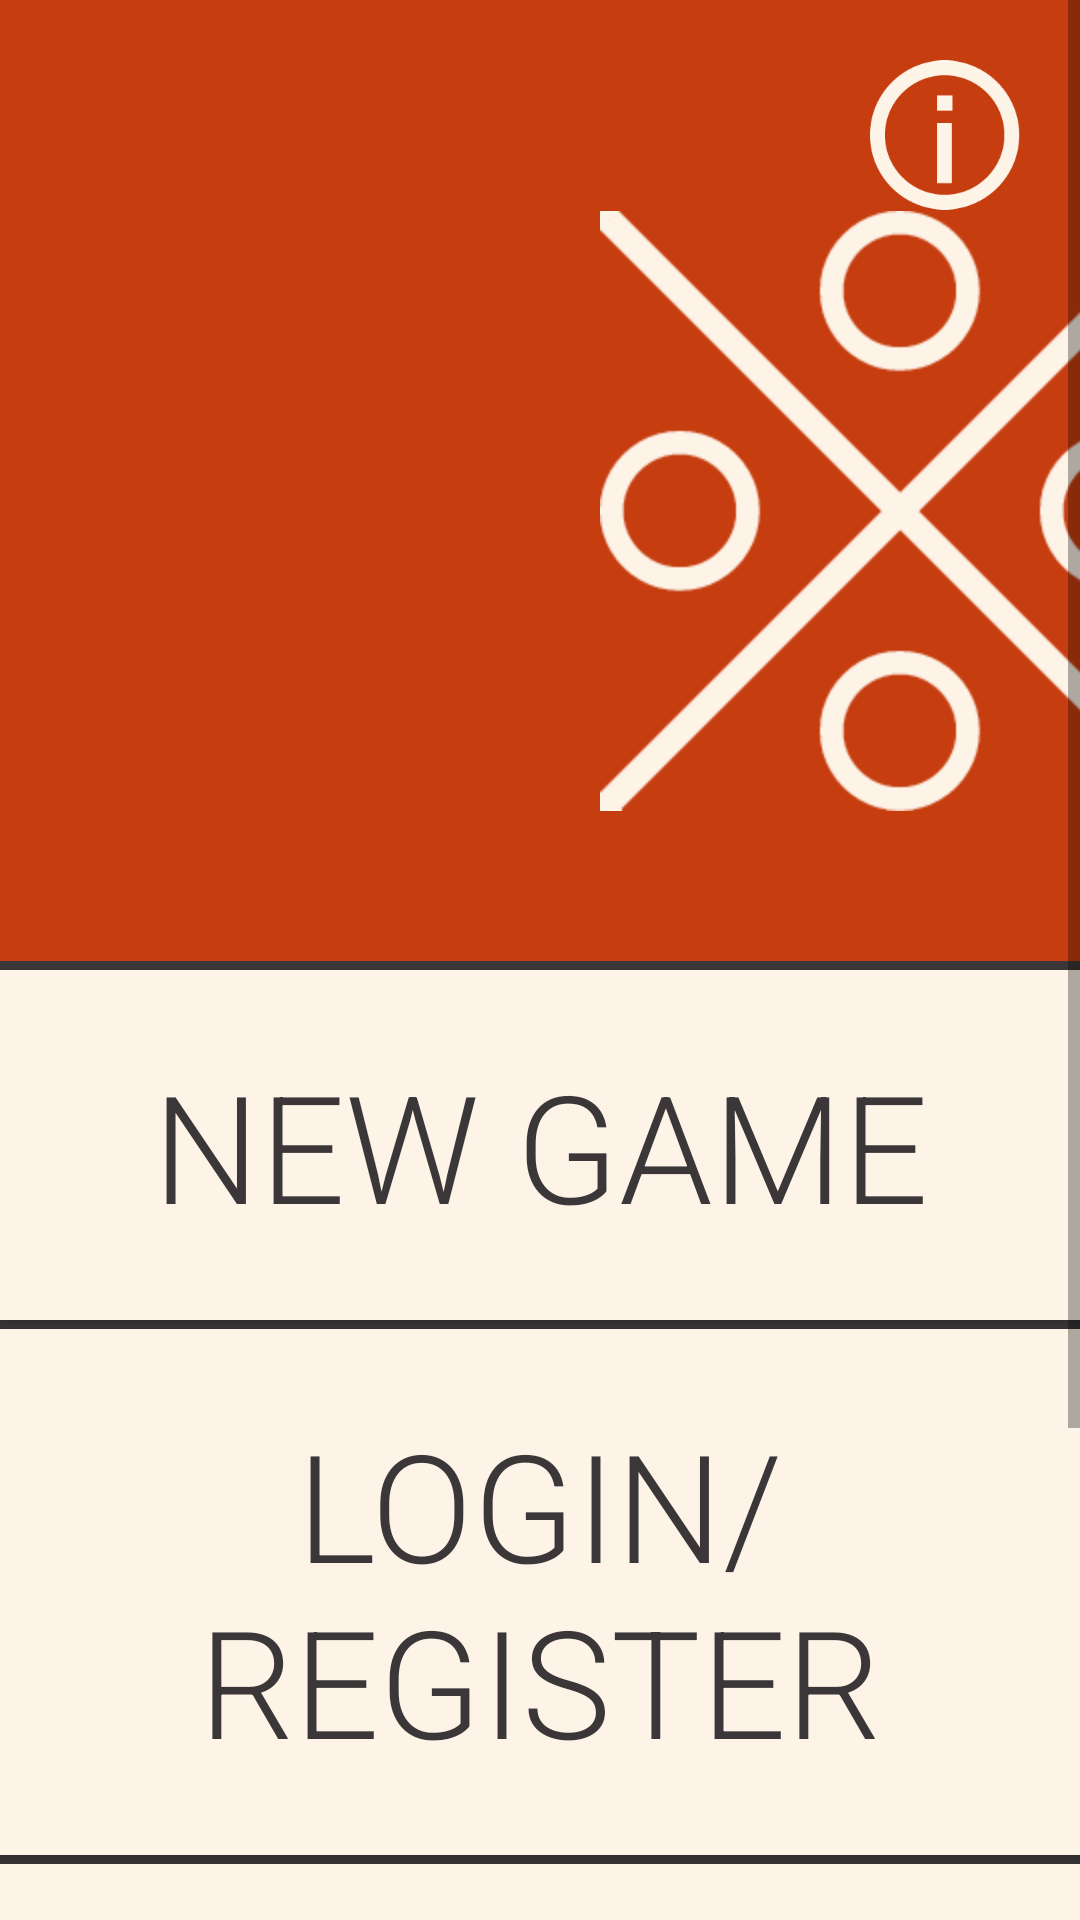

Where to tap for icons on this 1080*1920 app screen, as (x=x, y=y):
Rules icon: (x=945, y=135)
